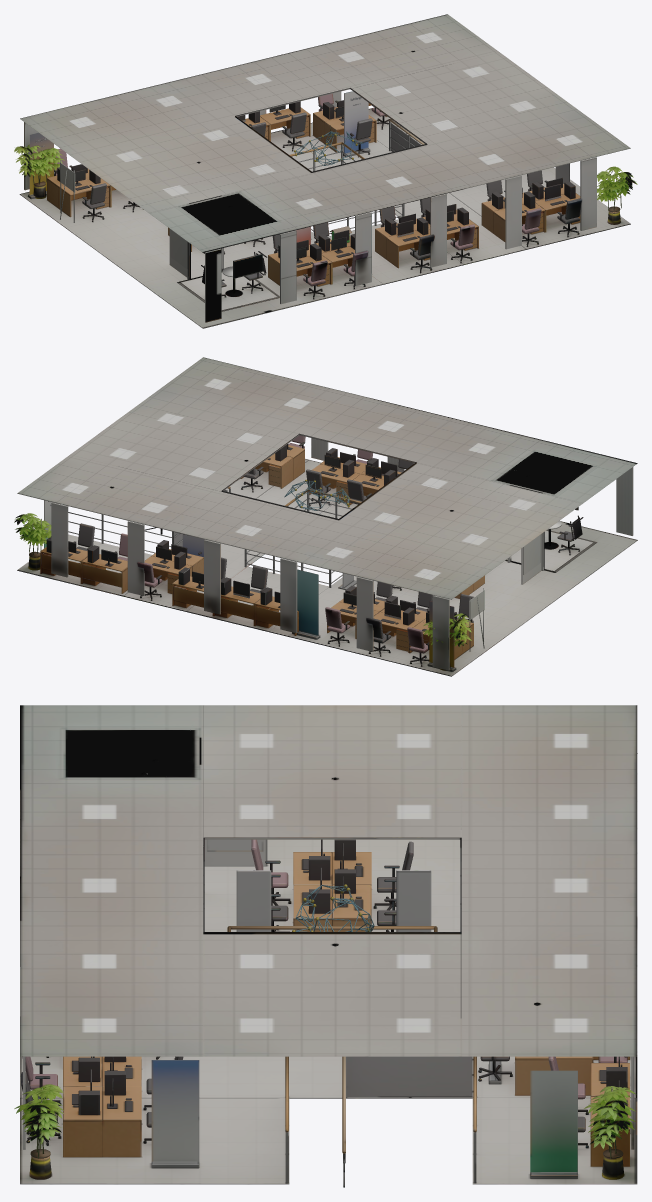
The model's file is world_in1e.glb.
The picture shows the model from 3 angles, top to bottom: view 1: azimuth 30°, elevation 25°; view 2: azimuth 150°, elevation 25°; view 3: azimuth 270°, elevation 25°; orthographic projection. The views are drawn at different scales.
Visible parts, largest first — view 1: W_in1e; view 2: W_in1e; view 3: W_in1e.
Boxes of the visible parts, x1,y1,x2,y2 form: W_in1e: (14, 14, 637, 328); W_in1e: (14, 357, 637, 676); W_in1e: (14, 705, 637, 1187).
Size of the model in its own units: 15.58 by 3.21 by 11.12.
Materials: 1 (1 with a texture image).
